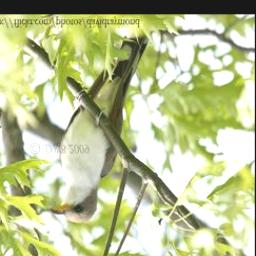Cuckoo: (48, 30, 147, 226)
